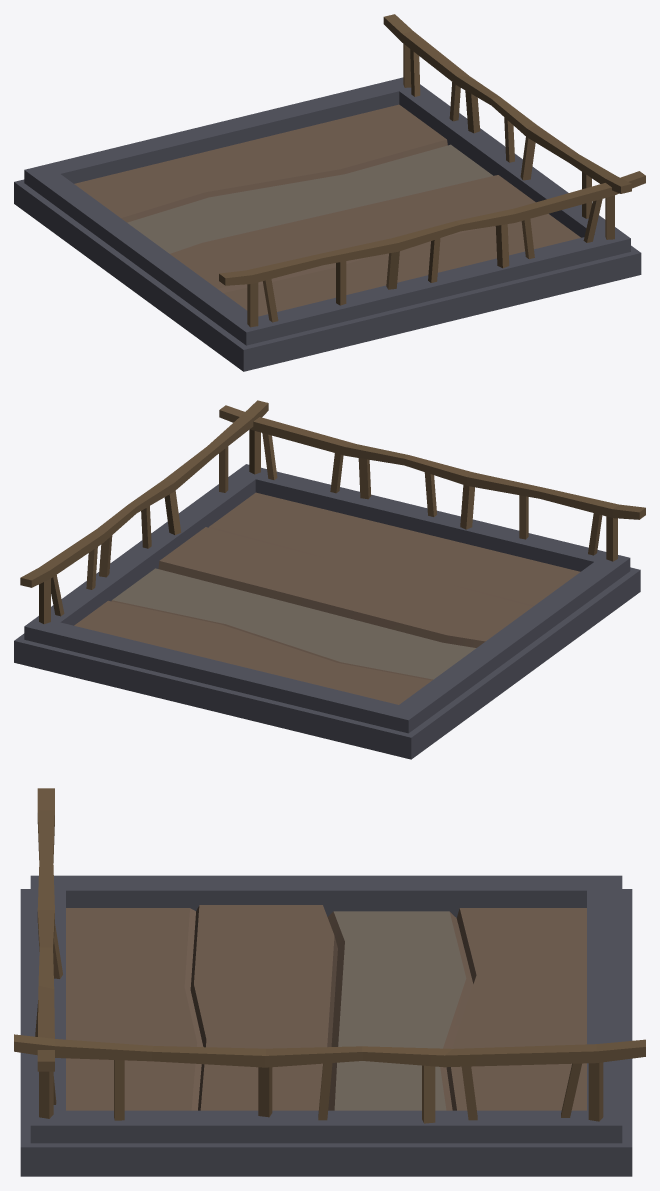
The model's file is SM_Bld_Shanty_Roof_04.glb.
The picture shows the model from 3 angles, top to bottom: view 1: azimuth 30°, elevation 25°; view 2: azimuth 150°, elevation 25°; view 3: azimuth 270°, elevation 25°; orthographic projection. The views are drawn at different scales.
Visible parts, largest first — view 1: SM_Bld_Shanty_Roof_04; view 2: SM_Bld_Shanty_Roof_04; view 3: SM_Bld_Shanty_Roof_04.
Boxes of the visible parts, x1,y1,x2,y2 form: SM_Bld_Shanty_Roof_04: (14,14,645,371); SM_Bld_Shanty_Roof_04: (14,400,645,759); SM_Bld_Shanty_Roof_04: (14,788,645,1176).
Bounding box in the file's own units: 0.057 × 0.0124 × 0.0558.
